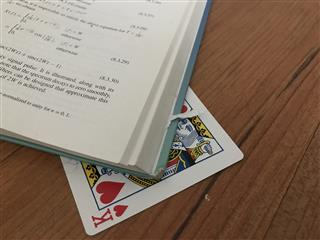KingOfHearts: (60, 84, 244, 235)
